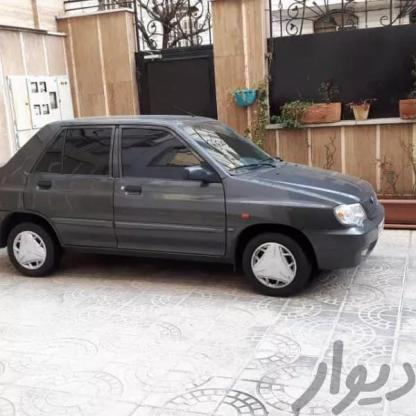Car: (0, 99, 365, 310)
